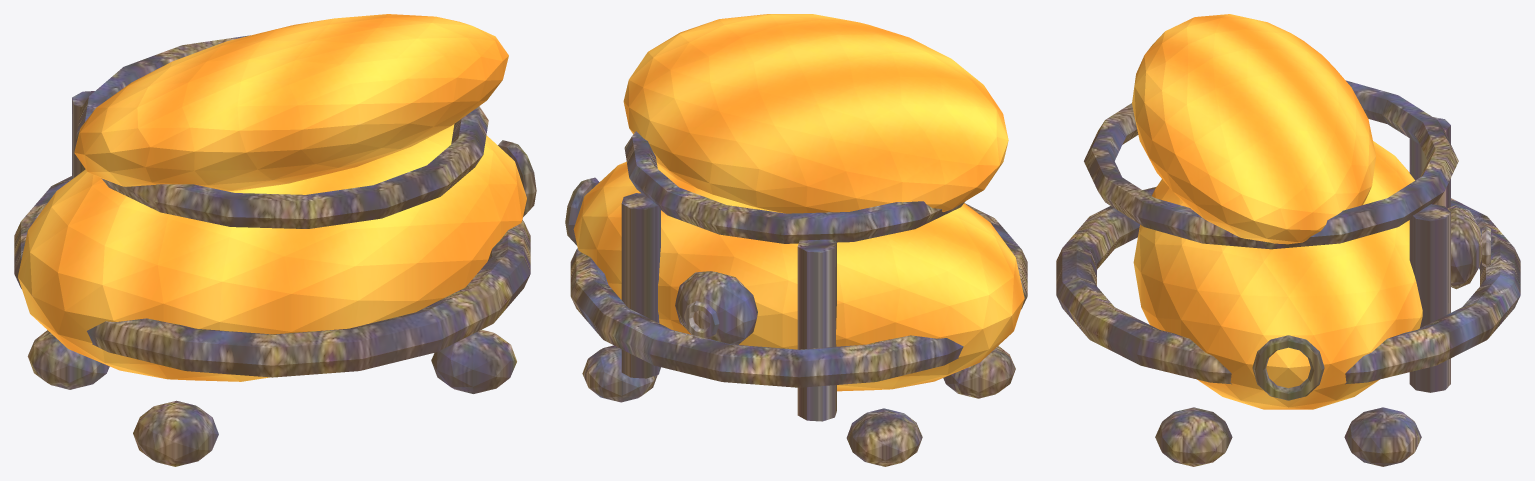
File: chest.glb
The picture shows the model from 3 angles, left to right: view 1: azimuth 30°, elevation 25°; view 2: azimuth 150°, elevation 25°; view 3: azimuth 270°, elevation 25°; orthographic projection. The views are drawn at different scales.
Visible parts, largest first — view 1: body, metal; view 2: body, metal; view 3: body, metal.
Part boxes in pixels (bbox=[...]): body: bbox=[18, 14, 526, 381]; metal: bbox=[14, 35, 536, 466]; body: bbox=[573, 14, 1024, 391]; metal: bbox=[565, 131, 1027, 466]; body: bbox=[1132, 14, 1422, 409]; metal: bbox=[1056, 80, 1520, 466].
Bounding box in the file's own units: 0.6752 × 0.5 × 0.6208.
1 material, 1 textured.
